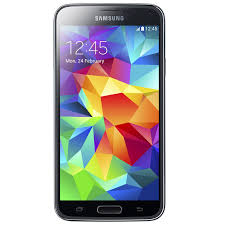samsung: (48, 1, 167, 225)
